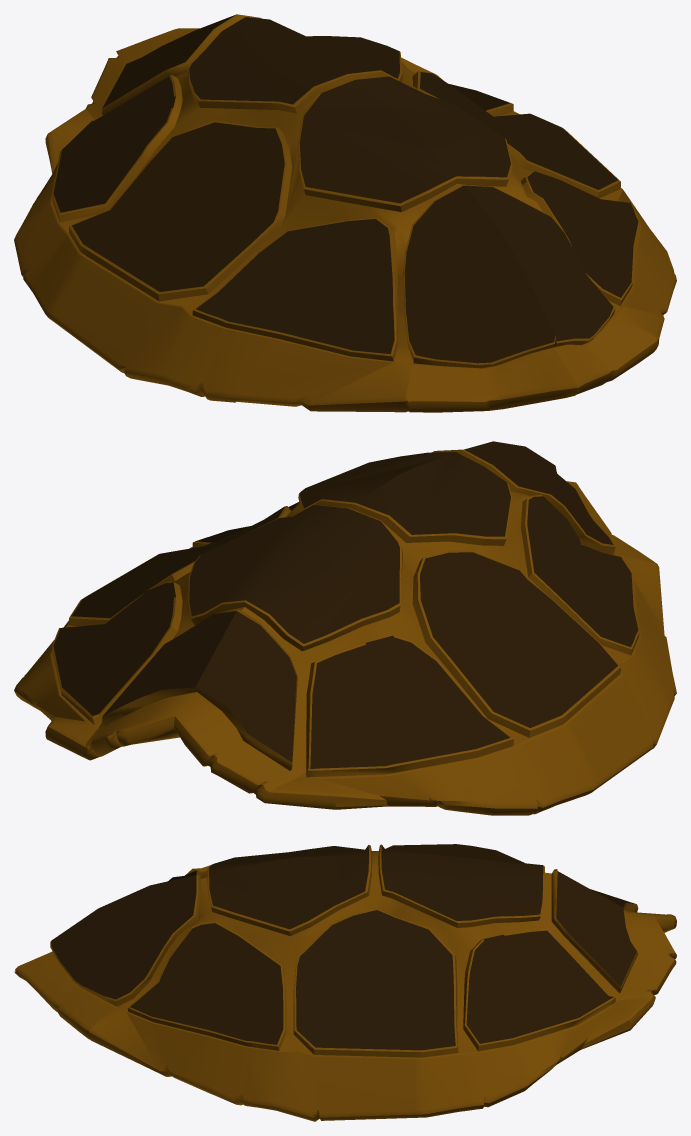
File: TurtleShell.obj
The picture shows the model from 3 angles, top to bottom: view 1: azimuth 30°, elevation 25°; view 2: azimuth 150°, elevation 25°; view 3: azimuth 270°, elevation 25°; orthographic projection. The views are drawn at different scales.
Parts seen in each view (by area): view 1: pCube5; view 2: pCube5; view 3: pCube5.
Part boxes in pixels (box(x1,y1,x2,y2)): pCube5: box(14, 14, 676, 412); pCube5: box(14, 441, 676, 815); pCube5: box(14, 844, 676, 1121).
Size of the model in its own units: 14.81 by 5.48 by 19.5.
